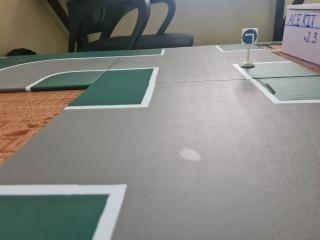left: (241, 27, 259, 46)
